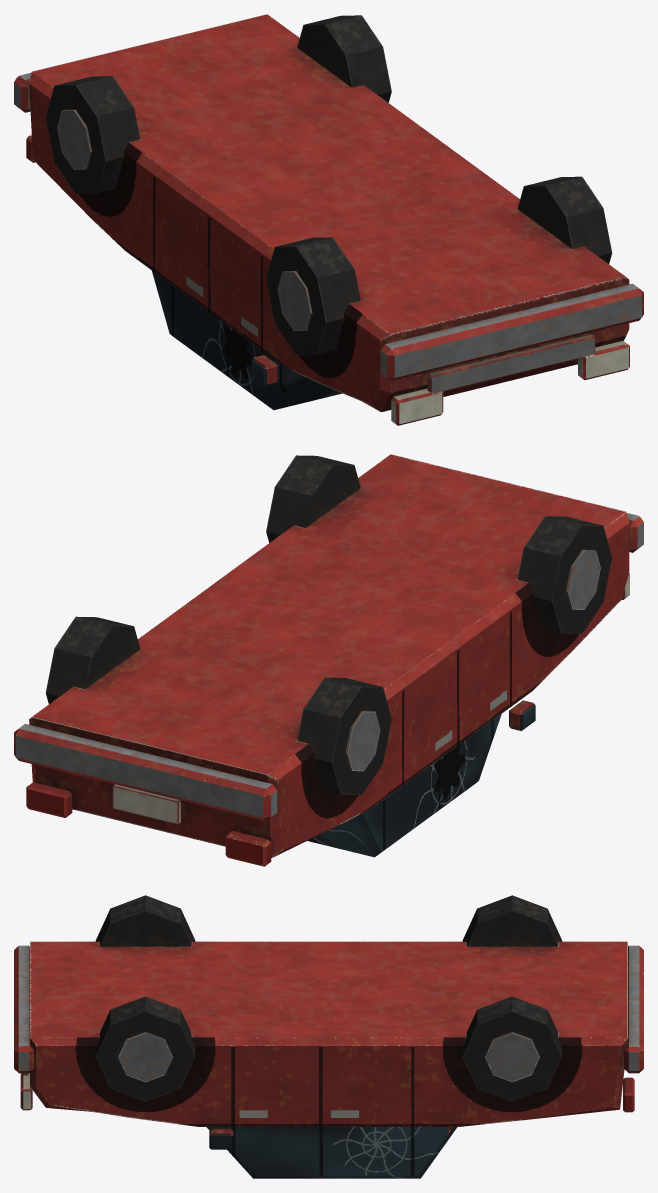
The model's file is Coche_Sedan_Volcado.glb.
3 views of the same model, one above another, from view 1: azimuth 30°, elevation 25°; view 2: azimuth 150°, elevation 25°; view 3: azimuth 270°, elevation 25° (orthographic). The views are drawn at different scales.
Parts seen in each view (by area): view 1: Coche_Sedan_Volcado; view 2: Coche_Sedan_Volcado; view 3: Coche_Sedan_Volcado.
Part boxes in pixels (x1,y1,x2,y2): Coche_Sedan_Volcado: [14, 14, 643, 425]; Coche_Sedan_Volcado: [14, 454, 643, 866]; Coche_Sedan_Volcado: [14, 895, 643, 1178].
Bounding box in the file's own units: 7 × 5.1 × 15.8.
Materials: 1 (1 with a texture image).
